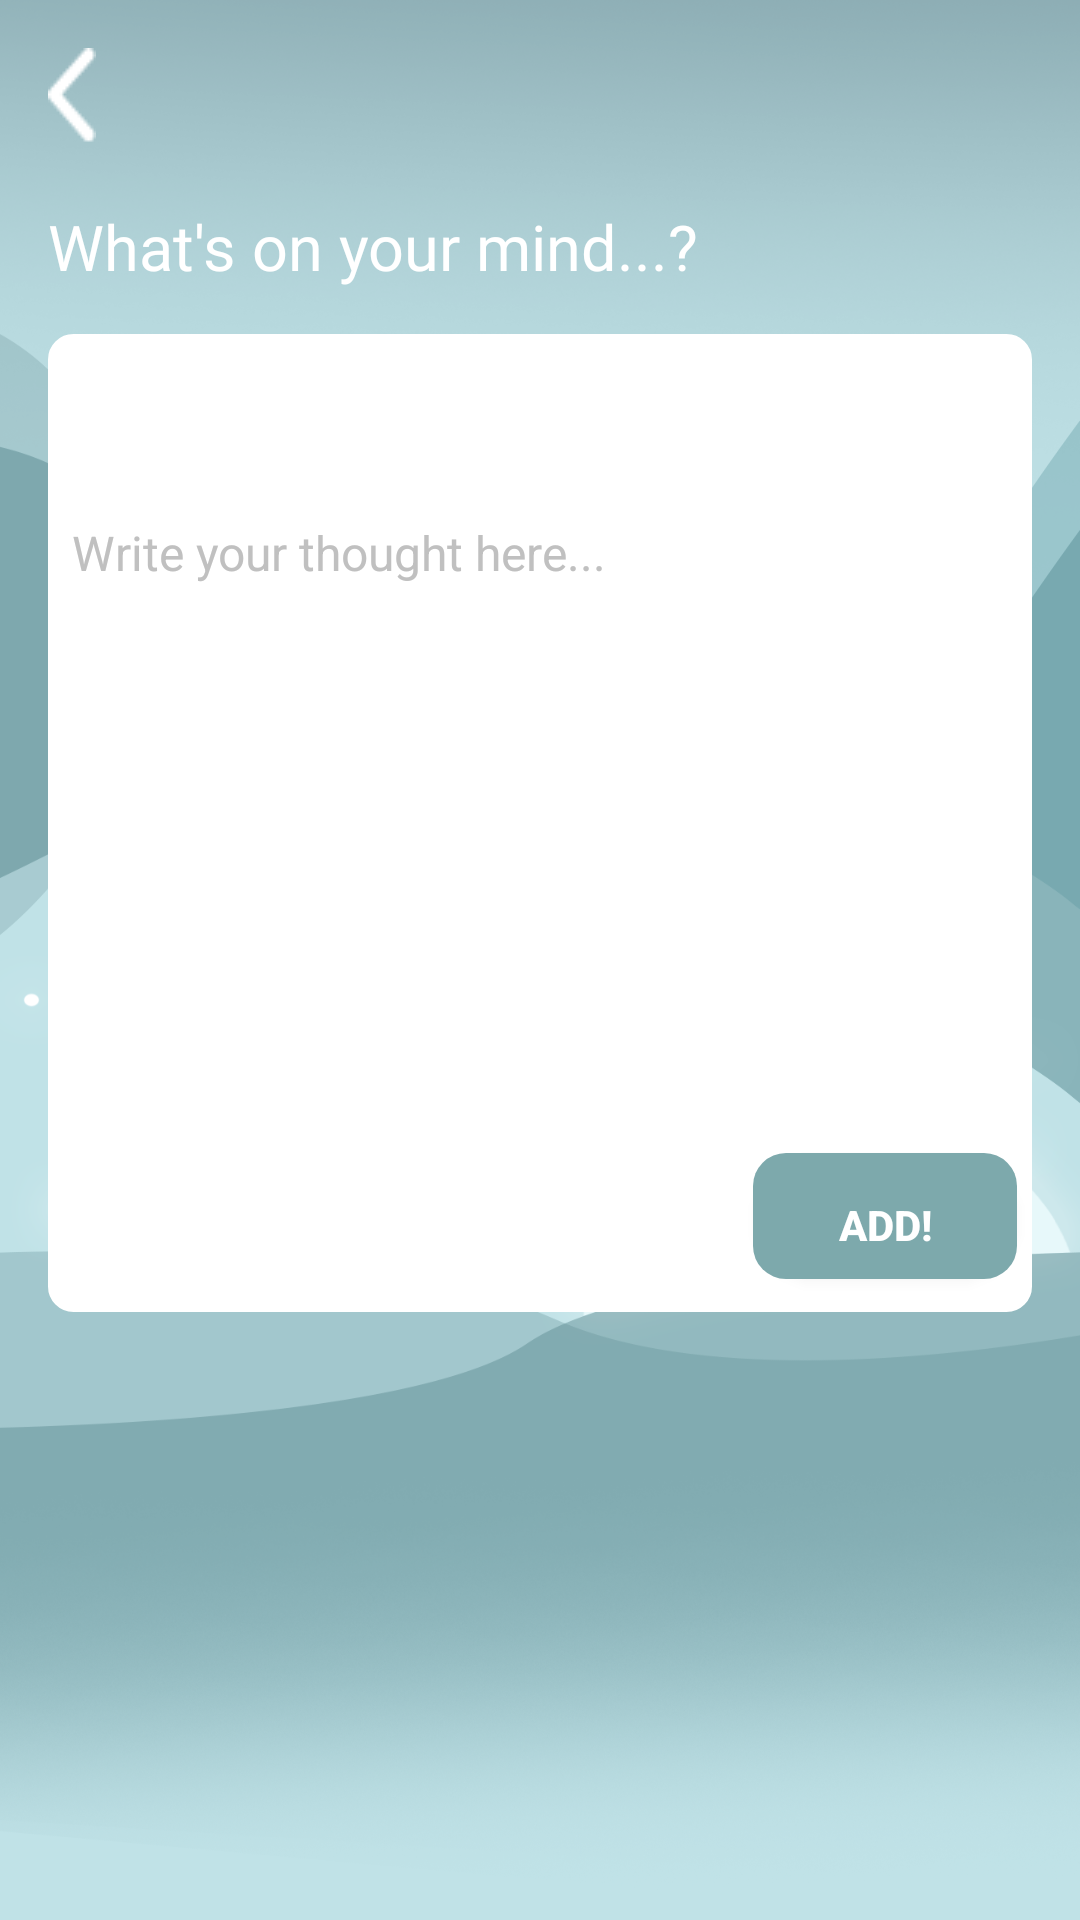

Where icons sit on this 1080×1920 app screen, as (x1, y1, x2, y2):
arrow back: (48, 48, 96, 142)
